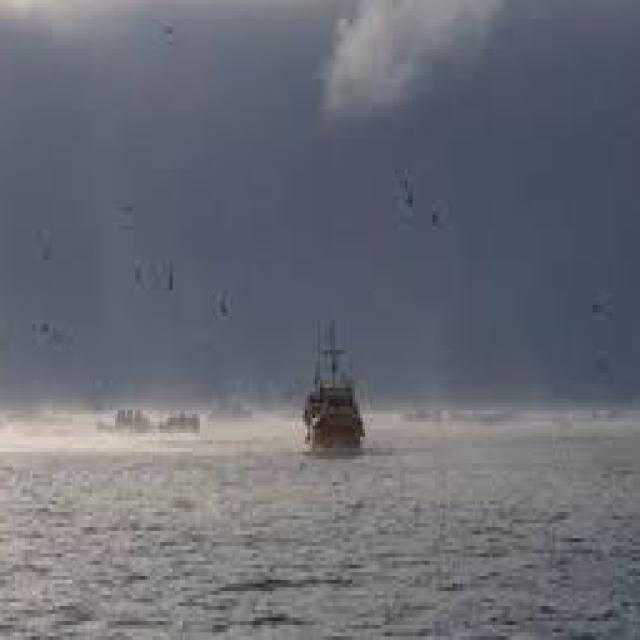fishing boat: (292, 314, 364, 456)
